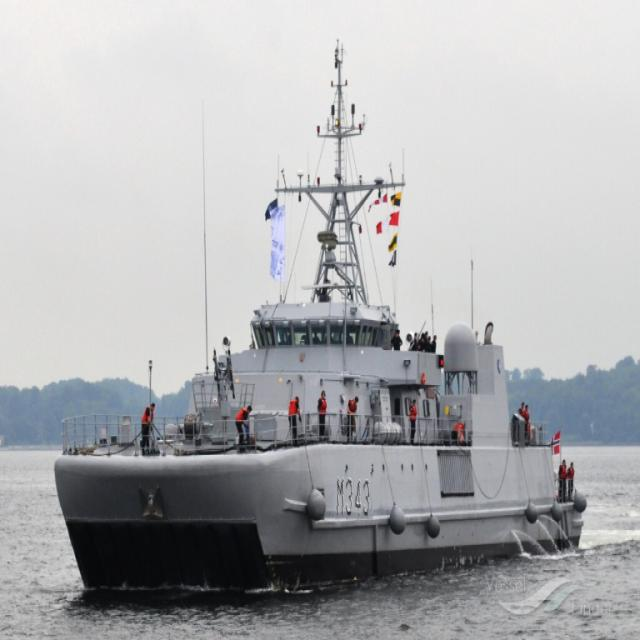OCR: (334, 462, 377, 520)
